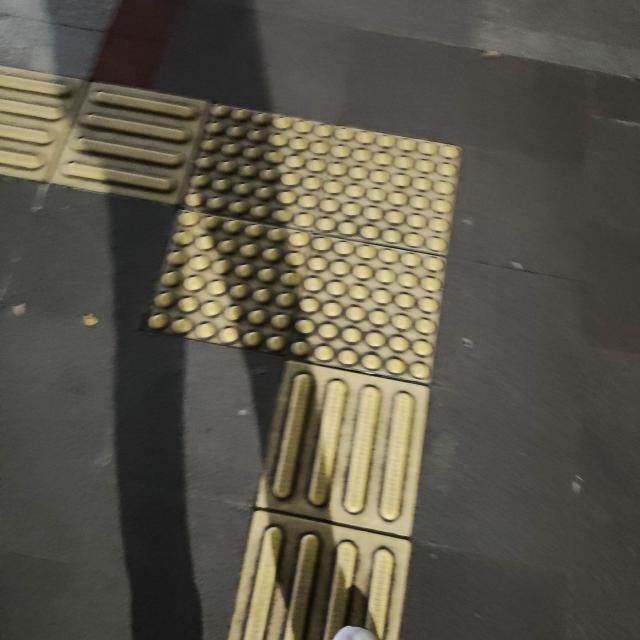kiri: (39, 52, 525, 465)
